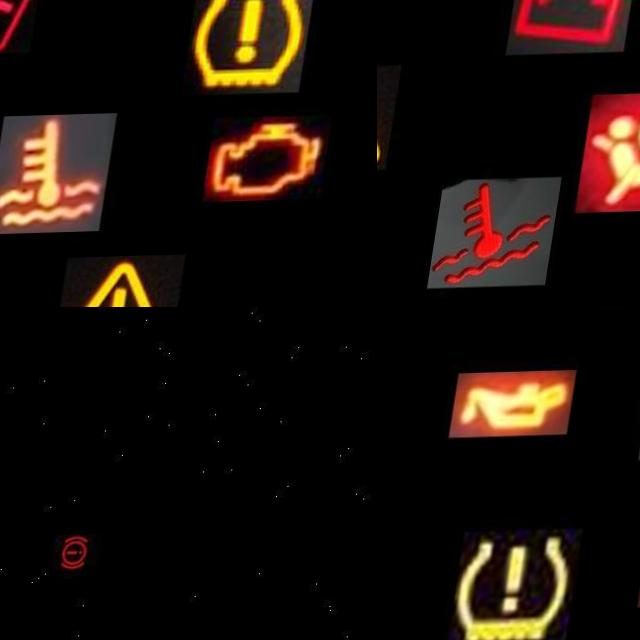Central Warning lamp: (66, 257, 197, 307), (377, 67, 414, 175)
Engine cooling system: (0, 115, 123, 236), (448, 180, 579, 291)
